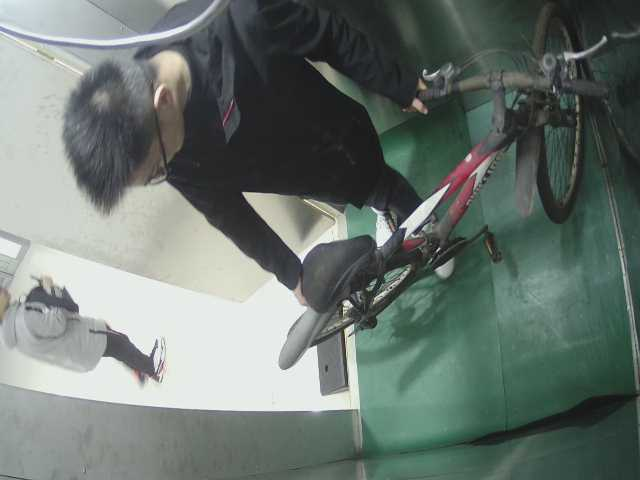bicycle: (272, 11, 616, 376)
person: (56, 2, 433, 228)
